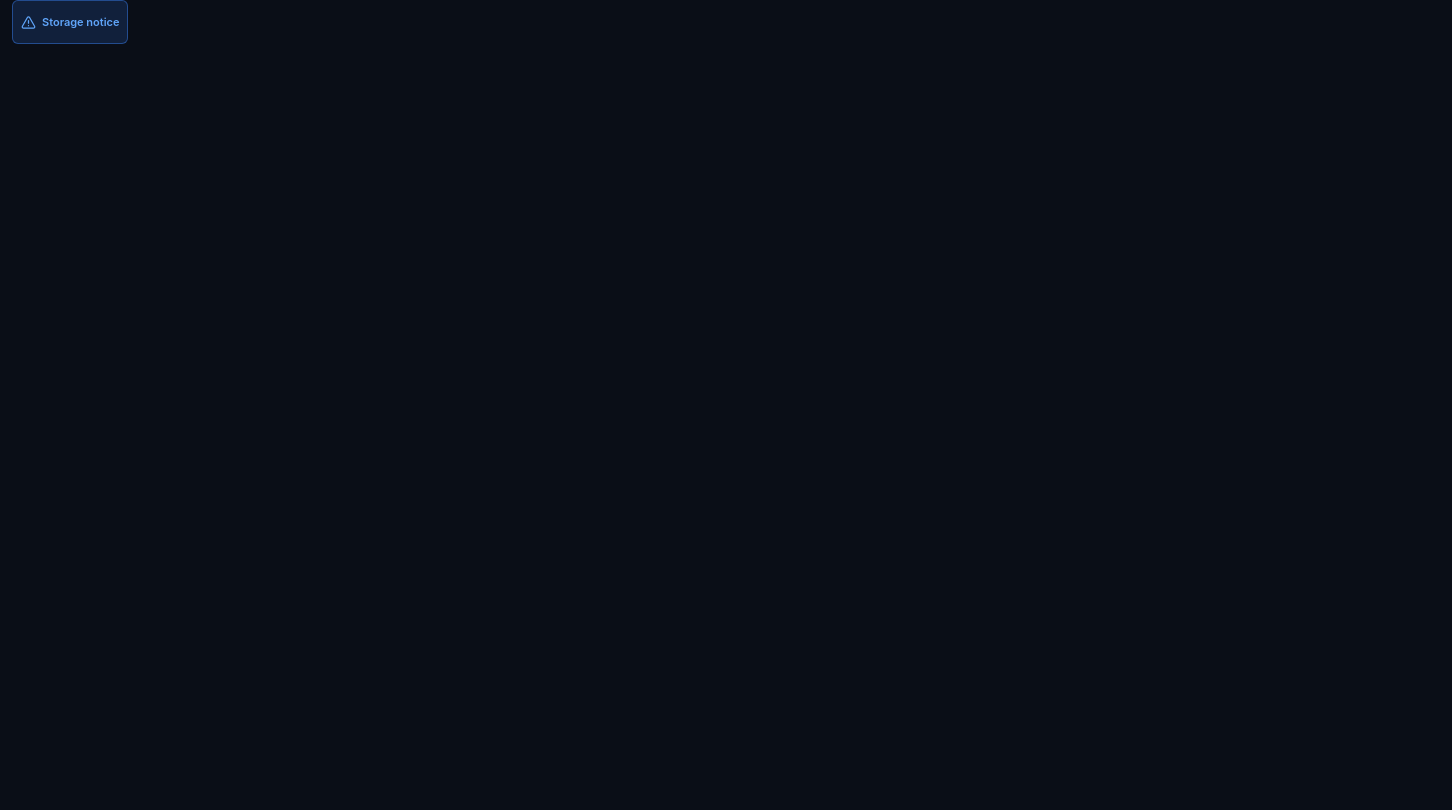
Test case: DashboardHealth › retains paused pull and migration details within the status disclosure
This screenshot has width=1452, height=810.
Later steps or results of the test are not shown.
Click the button with aria-label "Workspace health:": click(70, 22) [12,0,128,44]
(page scrolled)
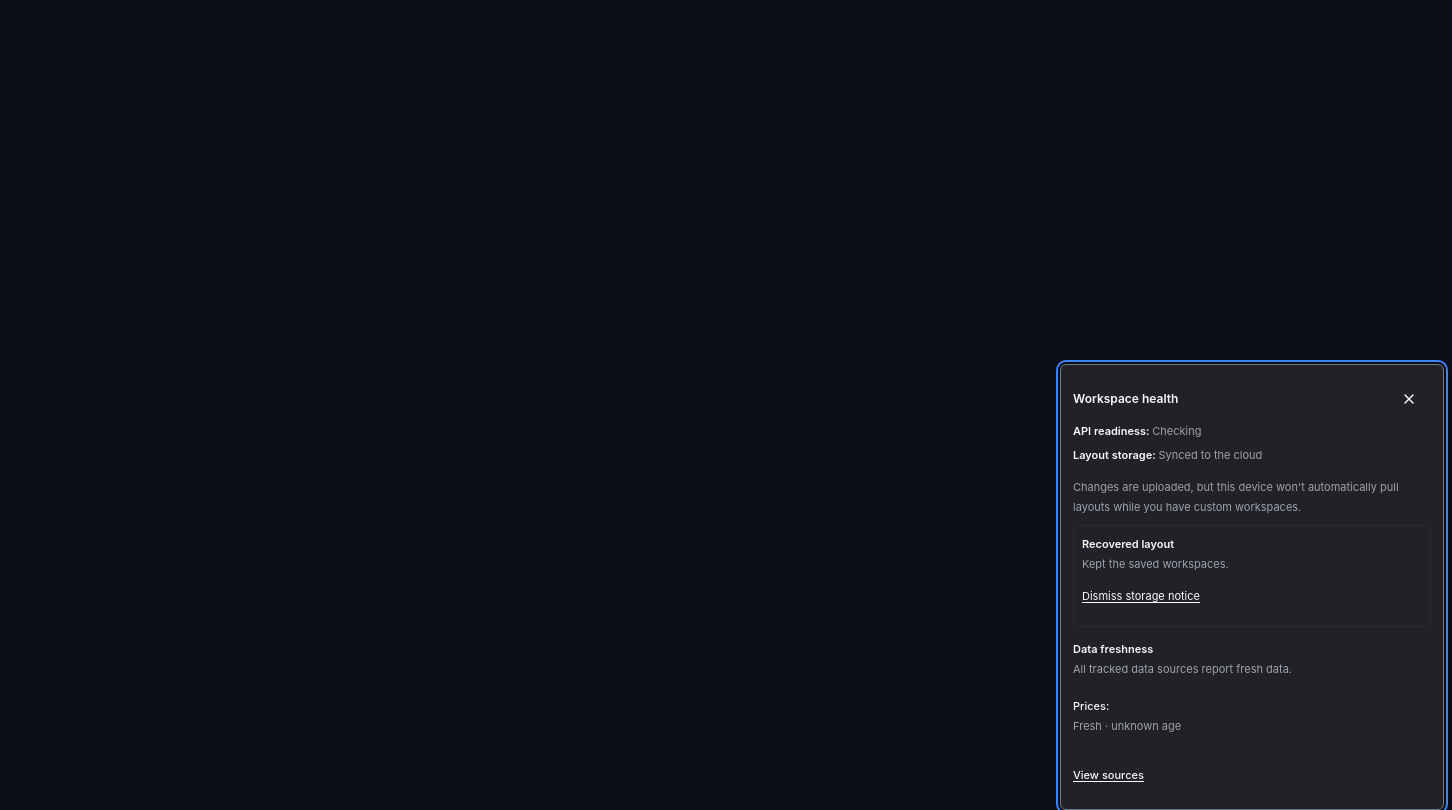
Expected: the text "Synced to the cloud" is shown, [1158,448,1262,462]
